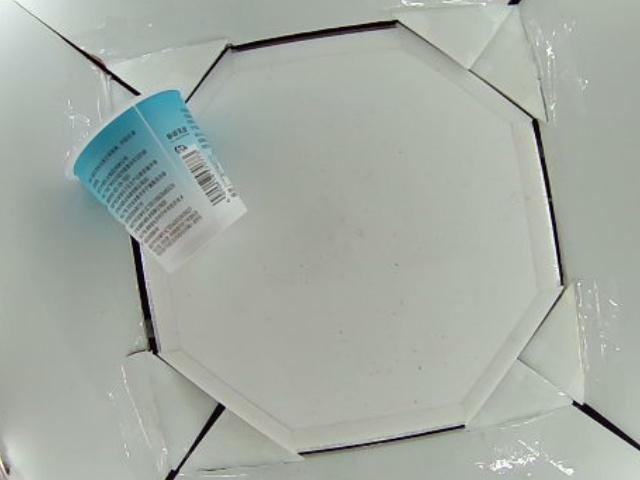Cup: (68, 89, 245, 270)
